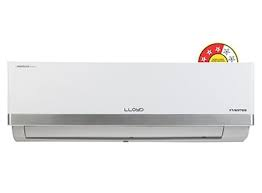ac: (5, 60, 256, 143)
